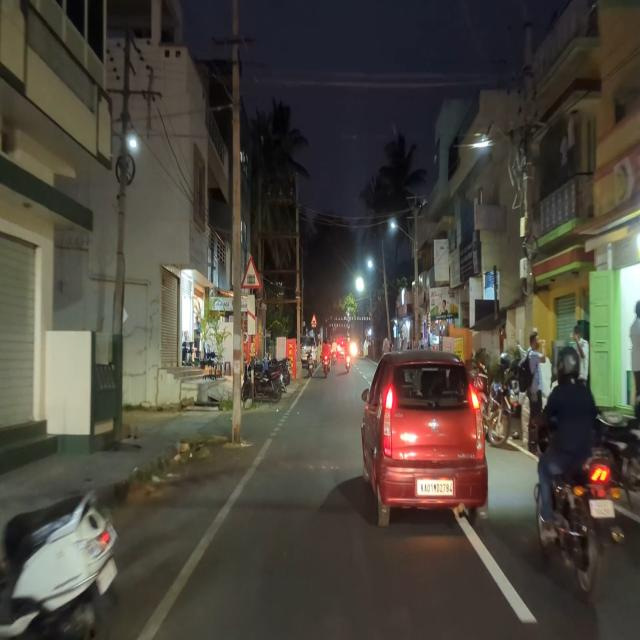bien_cam: (241, 254, 262, 290), (310, 314, 318, 325)
